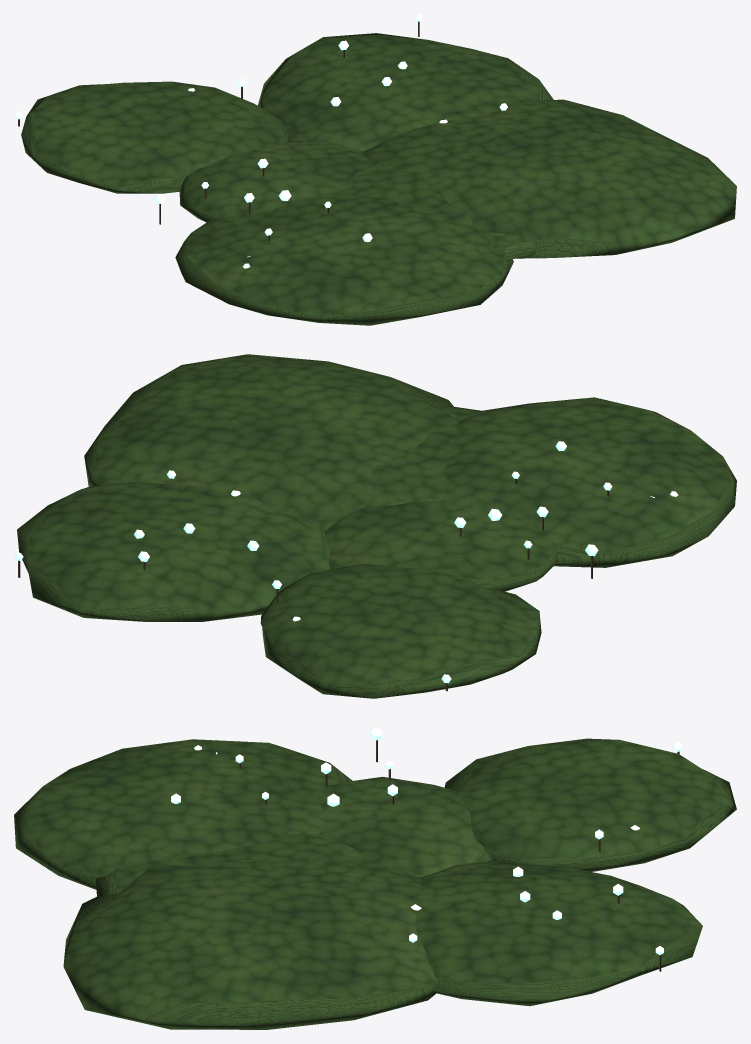
File: glow_moss_floor_patch.glb
The picture shows the model from 3 angles, top to bottom: view 1: azimuth 30°, elevation 25°; view 2: azimuth 150°, elevation 25°; view 3: azimuth 270°, elevation 25°; orthographic projection. The views are drawn at different scales.
Parts seen in each view (by area): view 1: glow_moss_floor_patch__moss, glow_moss_floor_patch__glow_core; view 2: glow_moss_floor_patch__moss, glow_moss_floor_patch__glow_core; view 3: glow_moss_floor_patch__moss, glow_moss_floor_patch__glow_core.
Part boxes in pixels (x1,y1,x2,y2): glow_moss_floor_patch__moss: (21,33,736,325); glow_moss_floor_patch__glow_core: (14,14,507,268); glow_moss_floor_patch__moss: (17,354,736,698); glow_moss_floor_patch__glow_core: (14,441,678,683); glow_moss_floor_patch__moss: (14,738,736,1029); glow_moss_floor_patch__glow_core: (171,727,682,954).
Bounding box in the file's own units: 1.91 × 0.1486 × 2.08.
3 materials, 2 textured.
